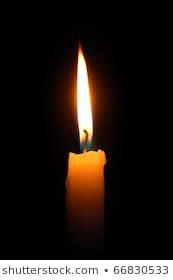fire: (73, 43, 93, 148)
